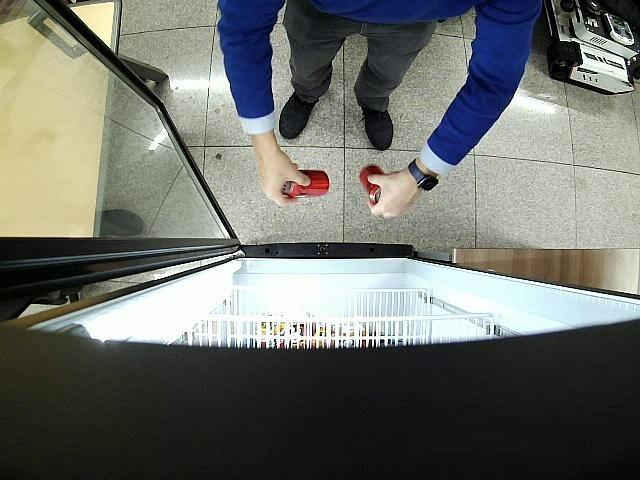11_cocaColaZero: (282, 170, 331, 197), (360, 164, 388, 207)
